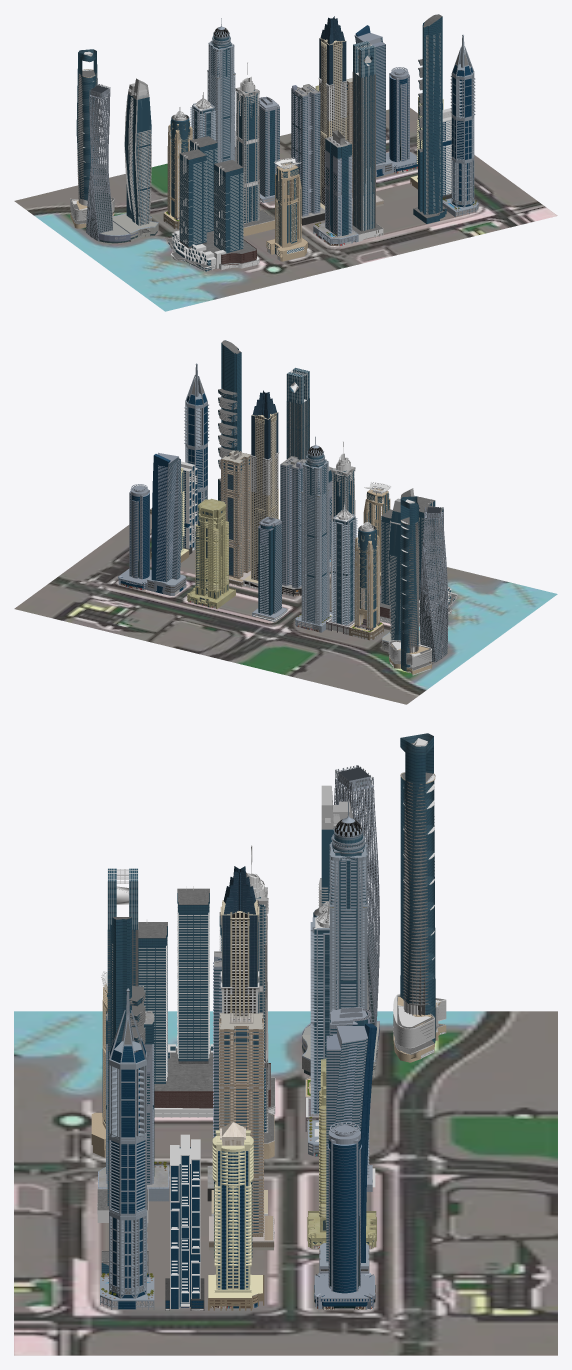
Rendered from dxb-marina-m.glb.
3 renders of one model, top to bottom at view 1: azimuth 30°, elevation 25°; view 2: azimuth 150°, elevation 25°; view 3: azimuth 270°, elevation 25°, orthographic. The views are drawn at different scales.
Visible parts, largest first — view 1: GeometryNode_887, GeometryNode_1076, GeometryNode_1180, GeometryNode_632, GeometryNode_713, GeometryNode_957, GeometryNode_1251, GeometryNode_23, GeometryNode_147, GeometryNode_286, GeometryNode_352, GeometryNode_227 (+30 smaller); view 2: GeometryNode_887, GeometryNode_1076, GeometryNode_286, GeometryNode_498, GeometryNode_147, GeometryNode_759, GeometryNode_585, GeometryNode_1251, GeometryNode_675, GeometryNode_393, GeometryNode_713, GeometryNode_621 (+29 smaller); view 3: GeometryNode_887, GeometryNode_1076, GeometryNode_23, GeometryNode_759, GeometryNode_286, GeometryNode_124, GeometryNode_1180, GeometryNode_193, GeometryNode_957, GeometryNode_37, GeometryNode_808, GeometryNode_585 (+30 smaller).
Part boxes in pixels (x1,y1,x2,y2): GeometryNode_887: [14, 108, 557, 311]; GeometryNode_1076: [76, 40, 303, 271]; GeometryNode_1180: [166, 72, 445, 269]; GeometryNode_632: [413, 16, 446, 223]; GeometryNode_713: [353, 41, 375, 230]; GeometryNode_957: [179, 142, 243, 250]; GeometryNode_1251: [291, 85, 320, 216]; GeometryNode_23: [442, 34, 478, 217]; GeometryNode_147: [86, 85, 110, 241]; GeometryNode_286: [207, 42, 235, 162]; GeometryNode_352: [124, 78, 151, 225]; GeometryNode_227: [266, 163, 307, 261]; GeometryNode_887: [14, 508, 557, 704]; GeometryNode_1076: [305, 458, 455, 671]; GeometryNode_286: [301, 460, 329, 625]; GeometryNode_498: [187, 498, 235, 608]; GeometryNode_147: [420, 507, 448, 662]; GeometryNode_759: [221, 450, 250, 587]; GeometryNode_585: [156, 452, 181, 582]; GeometryNode_1251: [280, 458, 303, 588]; GeometryNode_675: [244, 412, 278, 583]; GeometryNode_393: [331, 514, 357, 625]; GeometryNode_713: [286, 368, 309, 459]; GeometryNode_621: [151, 454, 183, 593]; GeometryNode_887: [14, 1011, 557, 1355]; GeometryNode_1076: [102, 733, 435, 1123]; GeometryNode_23: [100, 988, 154, 1309]; GeometryNode_759: [209, 1012, 274, 1250]; GeometryNode_286: [329, 842, 367, 1033]; GeometryNode_124: [208, 1130, 262, 1297]; GeometryNode_1180: [97, 888, 274, 1272]; GeometryNode_193: [393, 743, 443, 1054]; GeometryNode_957: [138, 886, 221, 1081]; GeometryNode_37: [110, 1040, 145, 1309]; GeometryNode_808: [314, 1139, 375, 1306]; GeometryNode_585: [326, 1026, 367, 1262].
Bounding box in the file's own units: 900 × 440 × 601.
Materials: 97 (96 with a texture image).
